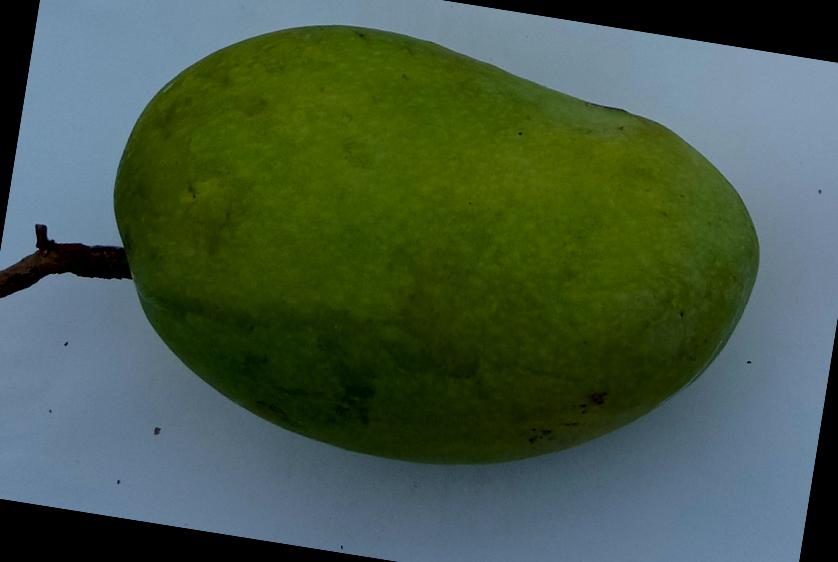Mango Unripe: (46, 0, 819, 558)
